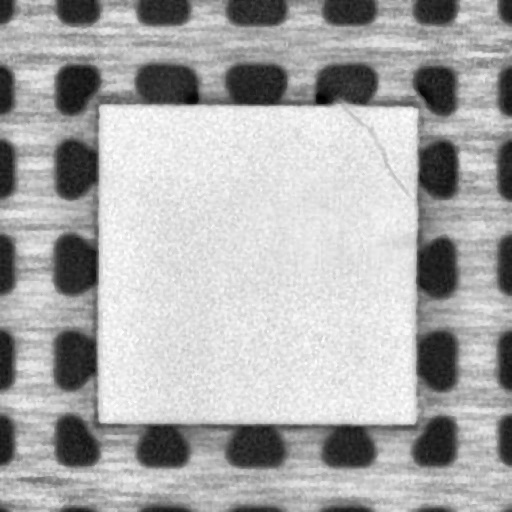DIE_CRACK: (339, 100, 406, 195)
